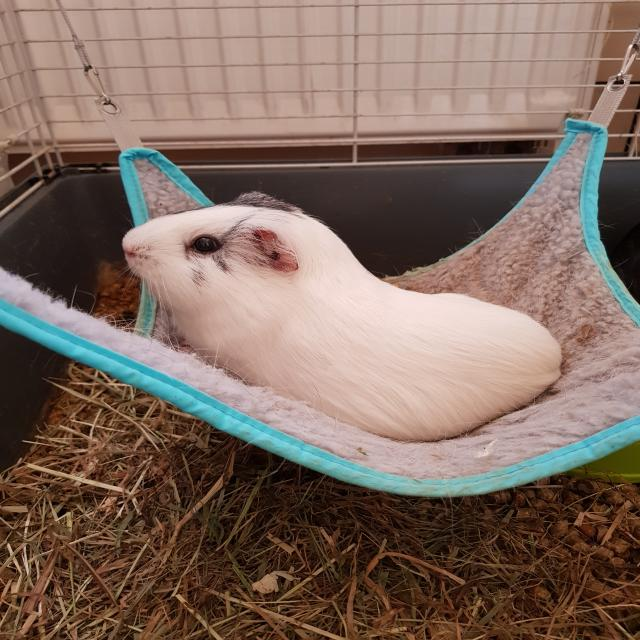guinea pig: (119, 191, 566, 443)
